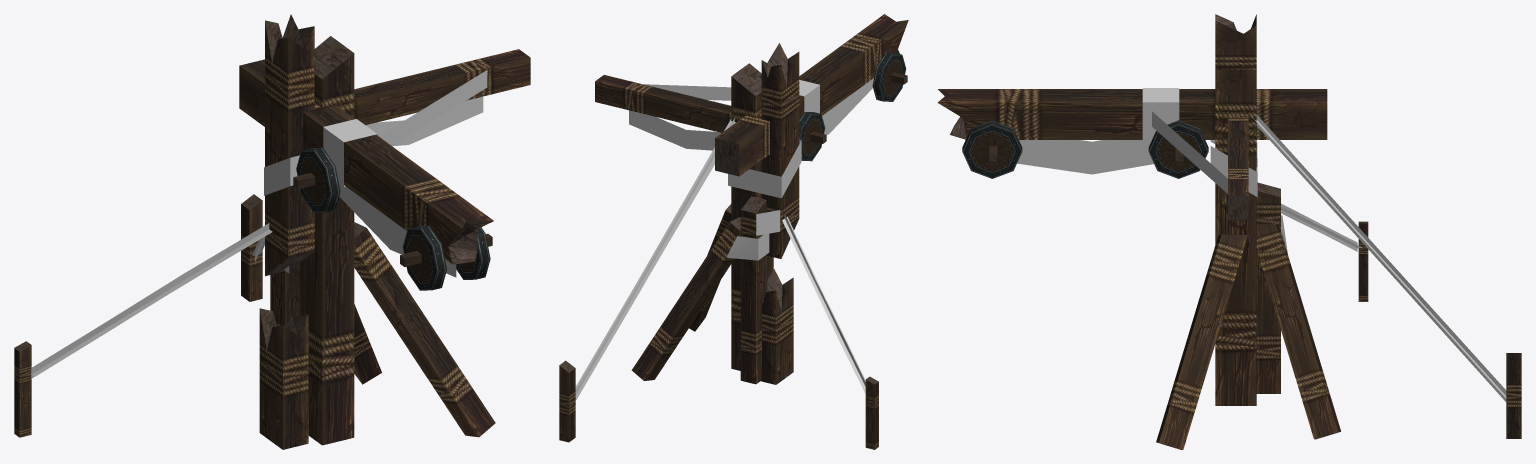
Rendered from A_mutou_009.fbx.
3 renders of one model, left to right at view 1: azimuth 30°, elevation 25°; view 2: azimuth 150°, elevation 25°; view 3: azimuth 270°, elevation 25°, orthographic. The views are drawn at different scales.
Visible parts, largest first — view 1: pasted__A_mutou_009; view 2: pasted__A_mutou_009; view 3: pasted__A_mutou_009.
Part boxes in pixels (x1,y1,x2,y2): pasted__A_mutou_009: (14, 14, 530, 449); pasted__A_mutou_009: (559, 14, 908, 449); pasted__A_mutou_009: (937, 14, 1521, 449).
Size of the model in its own units: 515 by 481 by 683.
